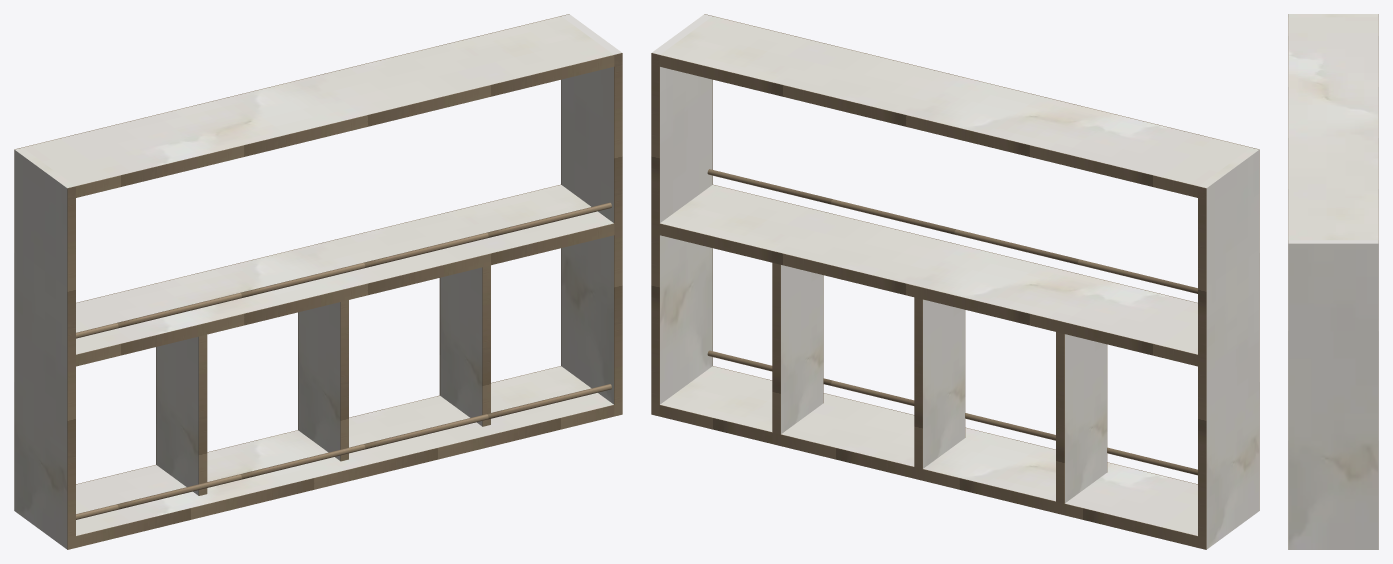
File: Tark 900mm A.glb
3 views of the same model, side by side, from view 1: azimuth 30°, elevation 25°; view 2: azimuth 150°, elevation 25°; view 3: azimuth 270°, elevation 25° (orthographic). The views are drawn at different scales.
Size of the model in its own units: 0.9 by 0.56 by 0.15.
Materials: 2 (2 with a texture image).
